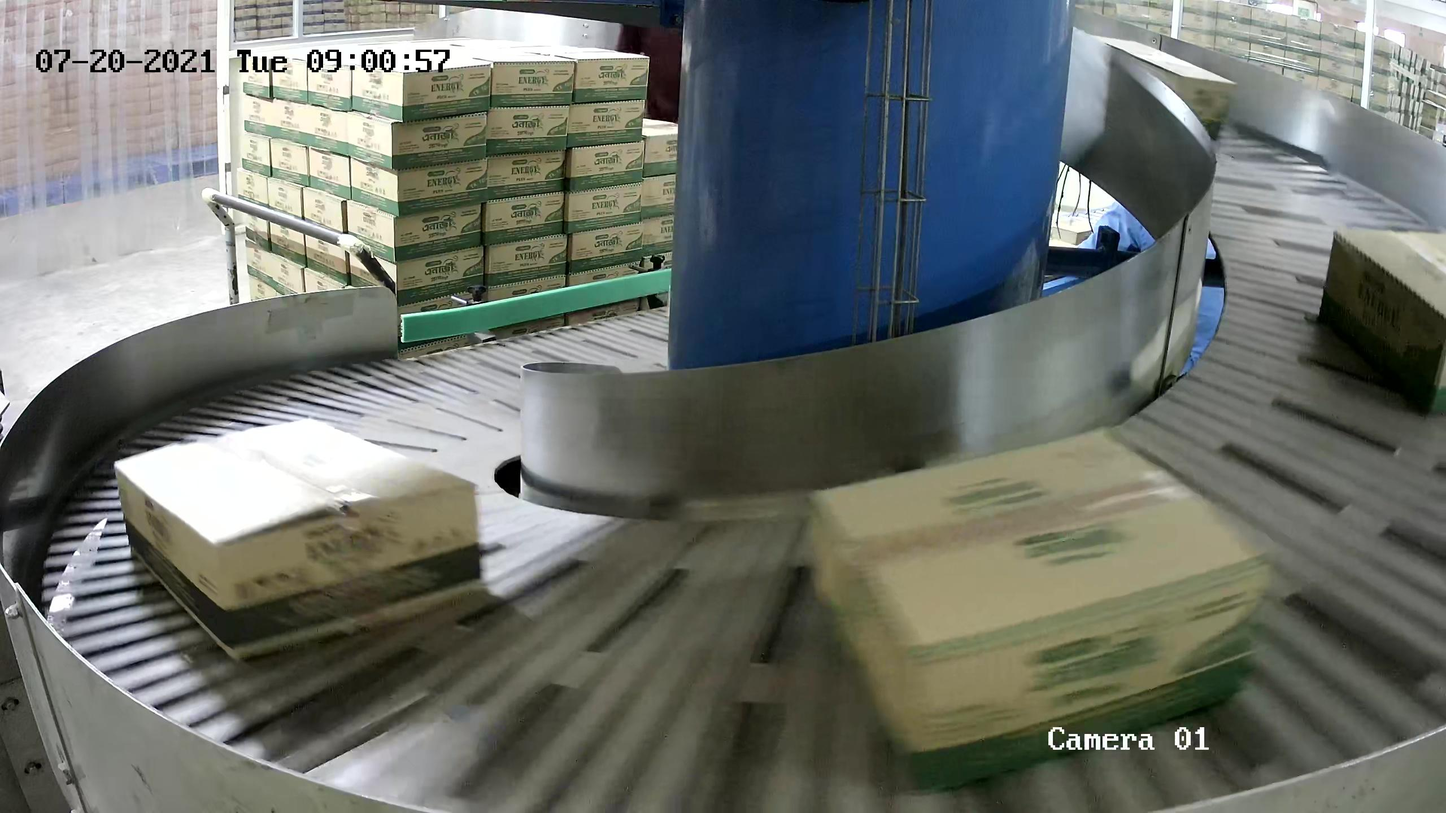Box: (801, 424, 1279, 792), (111, 415, 485, 664), (1316, 225, 1446, 415)
